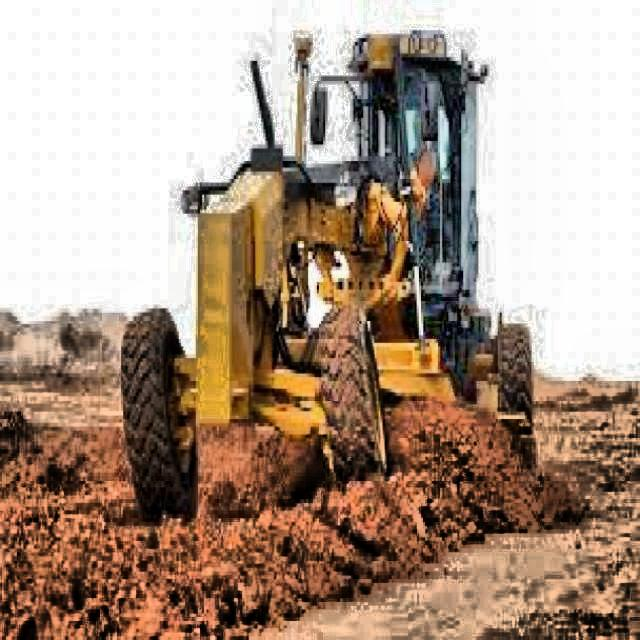bull_dozer/loader/grader: (119, 28, 536, 526)
person: (410, 109, 438, 187)
